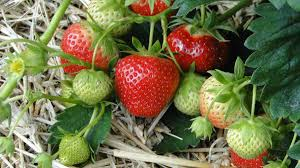ripe: (59, 19, 116, 78), (164, 21, 220, 72), (226, 145, 267, 167)
unripe: (112, 50, 182, 116), (200, 72, 249, 130), (225, 117, 272, 161), (171, 62, 207, 118), (73, 69, 113, 107), (57, 134, 91, 165), (16, 45, 48, 76)
